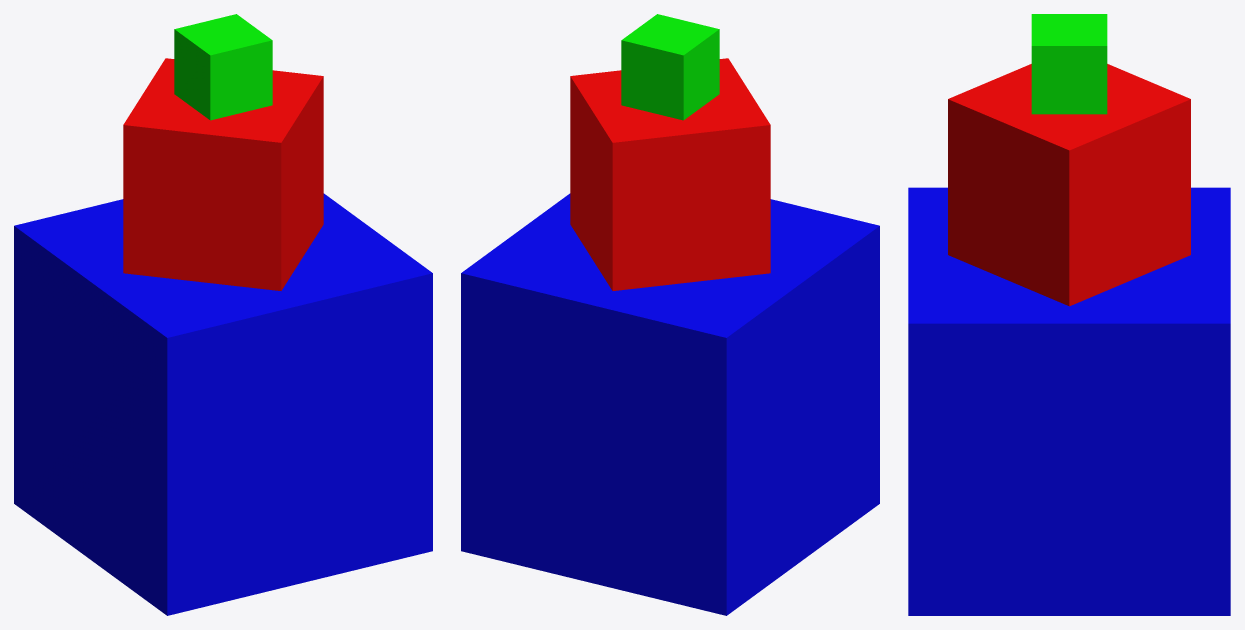
The model's file is box_stack.obj.
3 views of the same model, side by side, from view 1: azimuth 30°, elevation 25°; view 2: azimuth 150°, elevation 25°; view 3: azimuth 270°, elevation 25° (orthographic). The views are drawn at different scales.
Visible parts, largest first — view 1: mBot_cBot, mMid_cMid, mTop_cTop; view 2: mBot_cBot, mMid_cMid, mTop_cTop; view 3: mBot_cBot, mMid_cMid, mTop_cTop.
Boxes of the visible parts, x1=… form: mBot_cBot: x1=14, y1=193, x2=432, y2=615; mMid_cMid: x1=123, y1=58, x2=323, y2=290; mTop_cTop: x1=174, y1=14, x2=272, y2=120; mBot_cBot: x1=461, y1=193, x2=879, y2=615; mMid_cMid: x1=570, y1=58, x2=770, y2=290; mTop_cTop: x1=621, y1=14, x2=719, y2=120; mBot_cBot: x1=908, y1=187, x2=1230, y2=615; mMid_cMid: x1=948, y1=64, x2=1190, y2=306; mTop_cTop: x1=1031, y1=14, x2=1107, y2=114.
Size of the model in its own units: 2 by 3.55 by 2.
